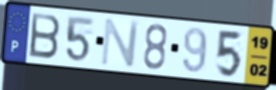5: (213, 29, 245, 79), (65, 15, 96, 63)
8: (142, 22, 168, 71)
9: (181, 26, 208, 75)
B: (28, 11, 62, 61)
N: (99, 17, 142, 68)
